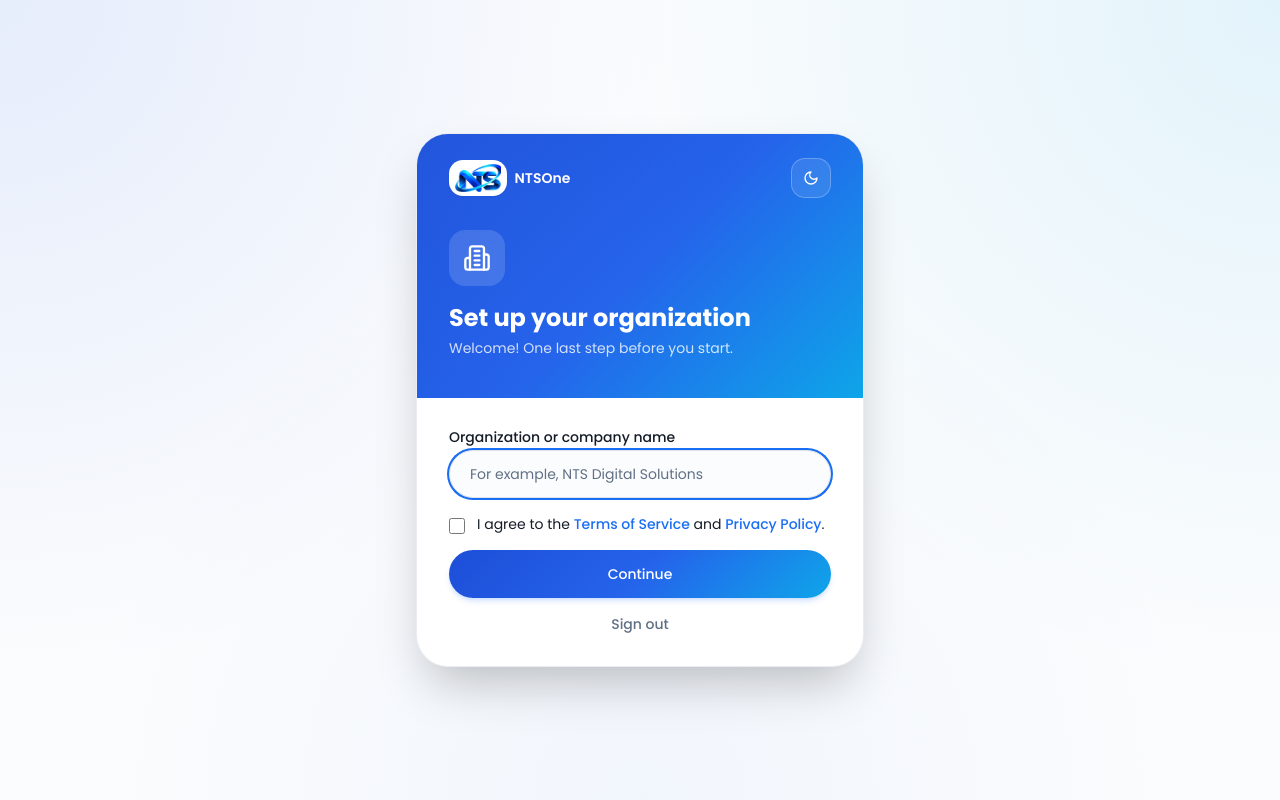
Test: naming the organization after signing up with Google › asks for the name and the agreement, and says which is missing
The image size is (1280, 800).
Click the button "Continue" at (640, 574), box [449,550,831,598]
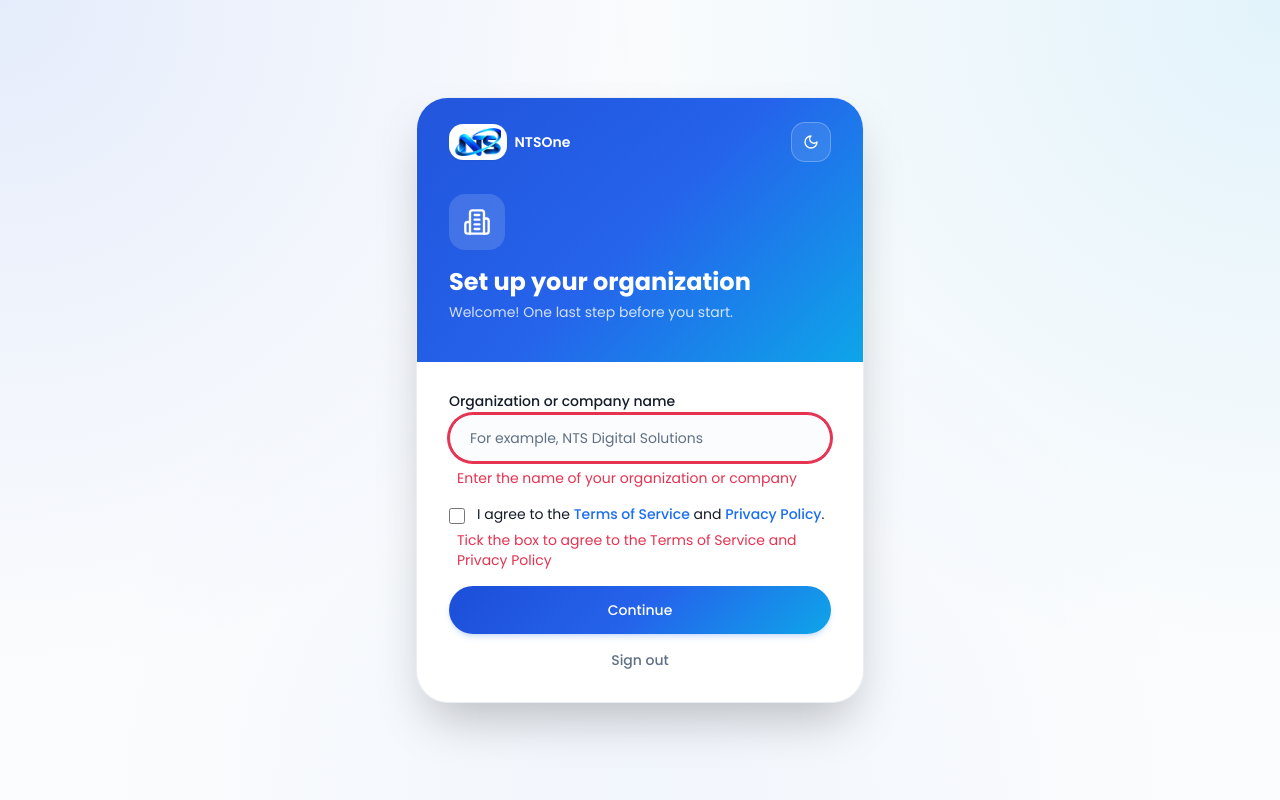
Expected: the text "Enter the name of your organization or company" is shown, [449,468,831,488]
Expected: the text "Tick the box to agree to the Terms of Service and Privacy Policy" is shown, [449,530,831,570]
